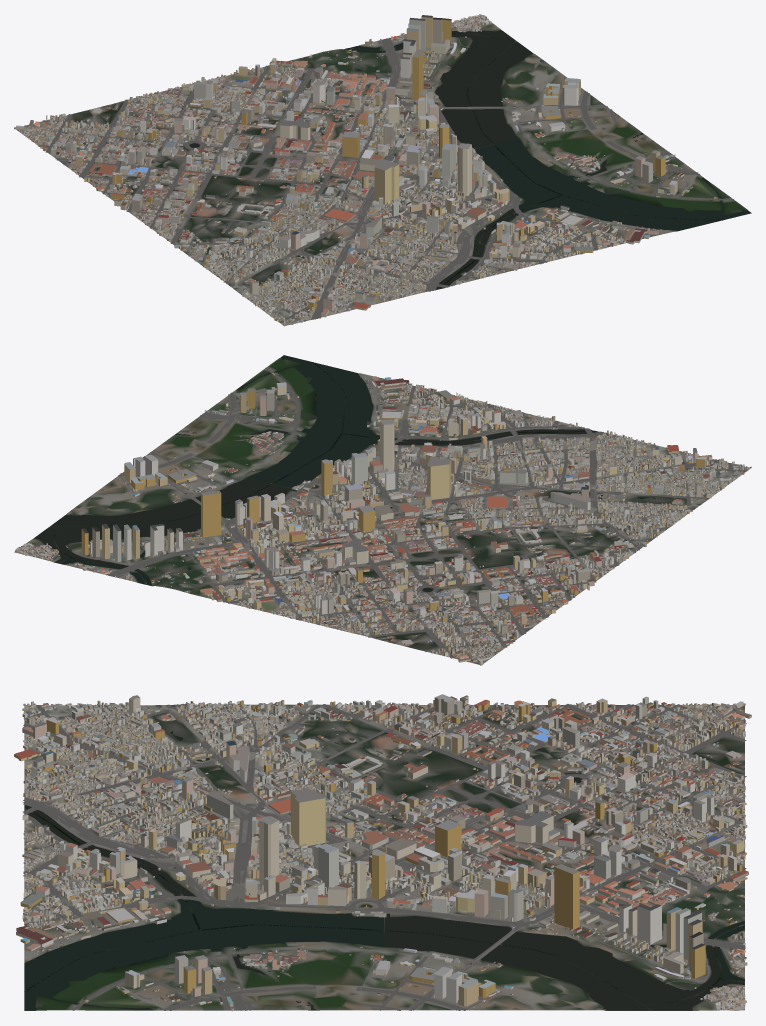
The picture shows the model from 3 angles, top to bottom: view 1: azimuth 30°, elevation 25°; view 2: azimuth 150°, elevation 25°; view 3: azimuth 270°, elevation 25°; orthographic projection. The views are drawn at different scales.
Visible parts, largest first — view 1: buildings, ground, roads, water; view 2: buildings, ground, roads, water; view 3: buildings, ground, water, roads.
Part boxes in pixels (box(x1,y1,x2,y2)): buildings: box(14, 14, 717, 326); ground: box(16, 17, 751, 325); roads: box(38, 18, 733, 323); water: box(128, 30, 750, 289); buildings: box(15, 373, 751, 665); ground: box(14, 355, 750, 664); roads: box(31, 367, 747, 658); water: box(34, 355, 655, 592); buildings: box(14, 694, 751, 1011); ground: box(24, 704, 744, 1010); water: box(24, 721, 744, 1010); roads: box(23, 704, 746, 1010).
Bounding box in the file's own units: 2834 × 276 × 2869.
